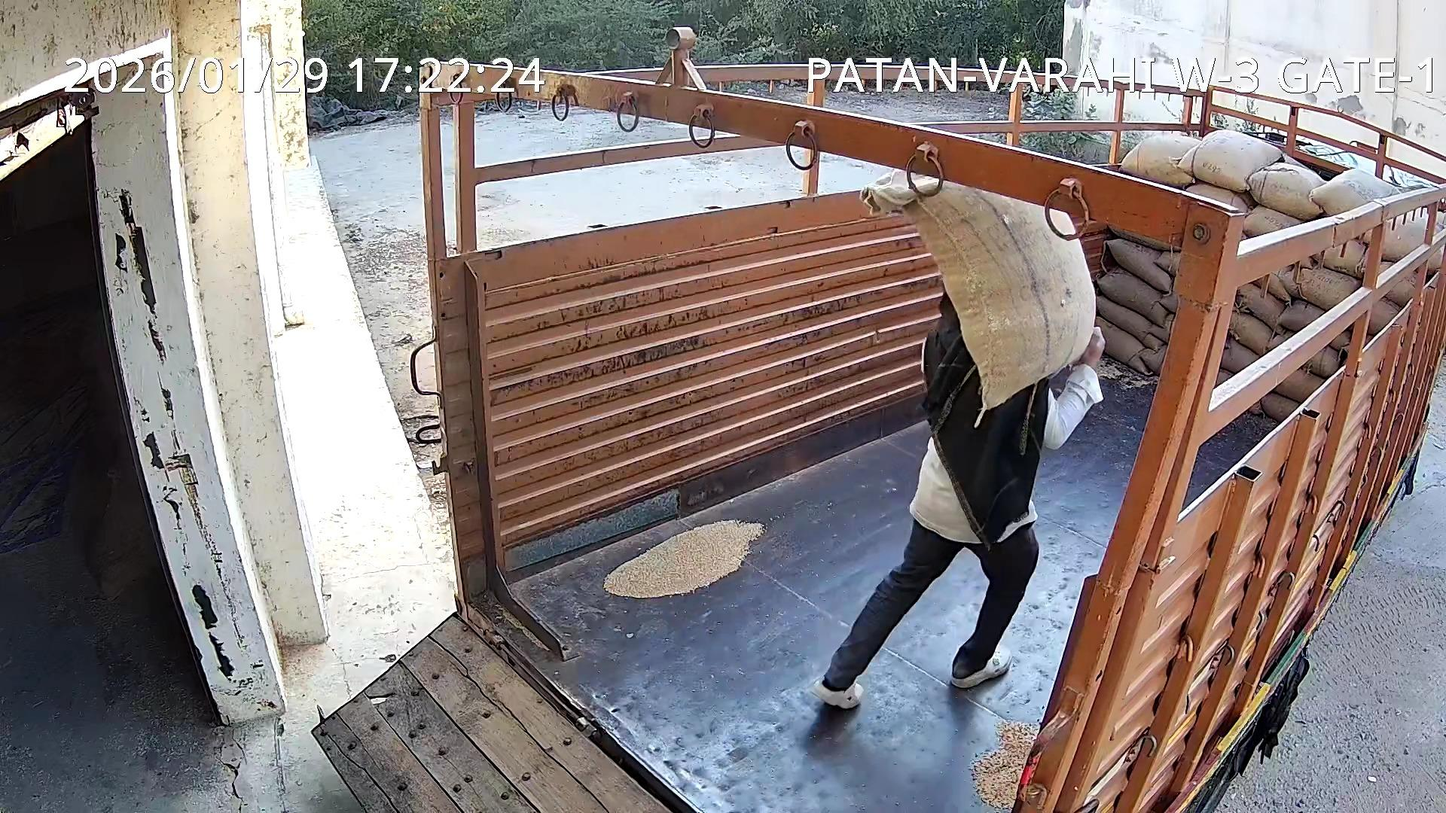Sack: (861, 170, 1094, 414)
